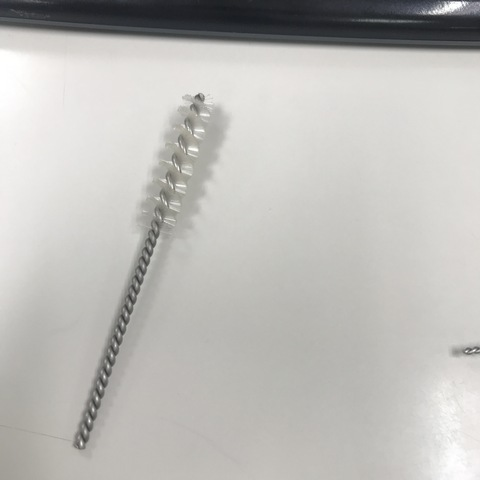Twist Brush-B: (65, 89, 217, 449)
